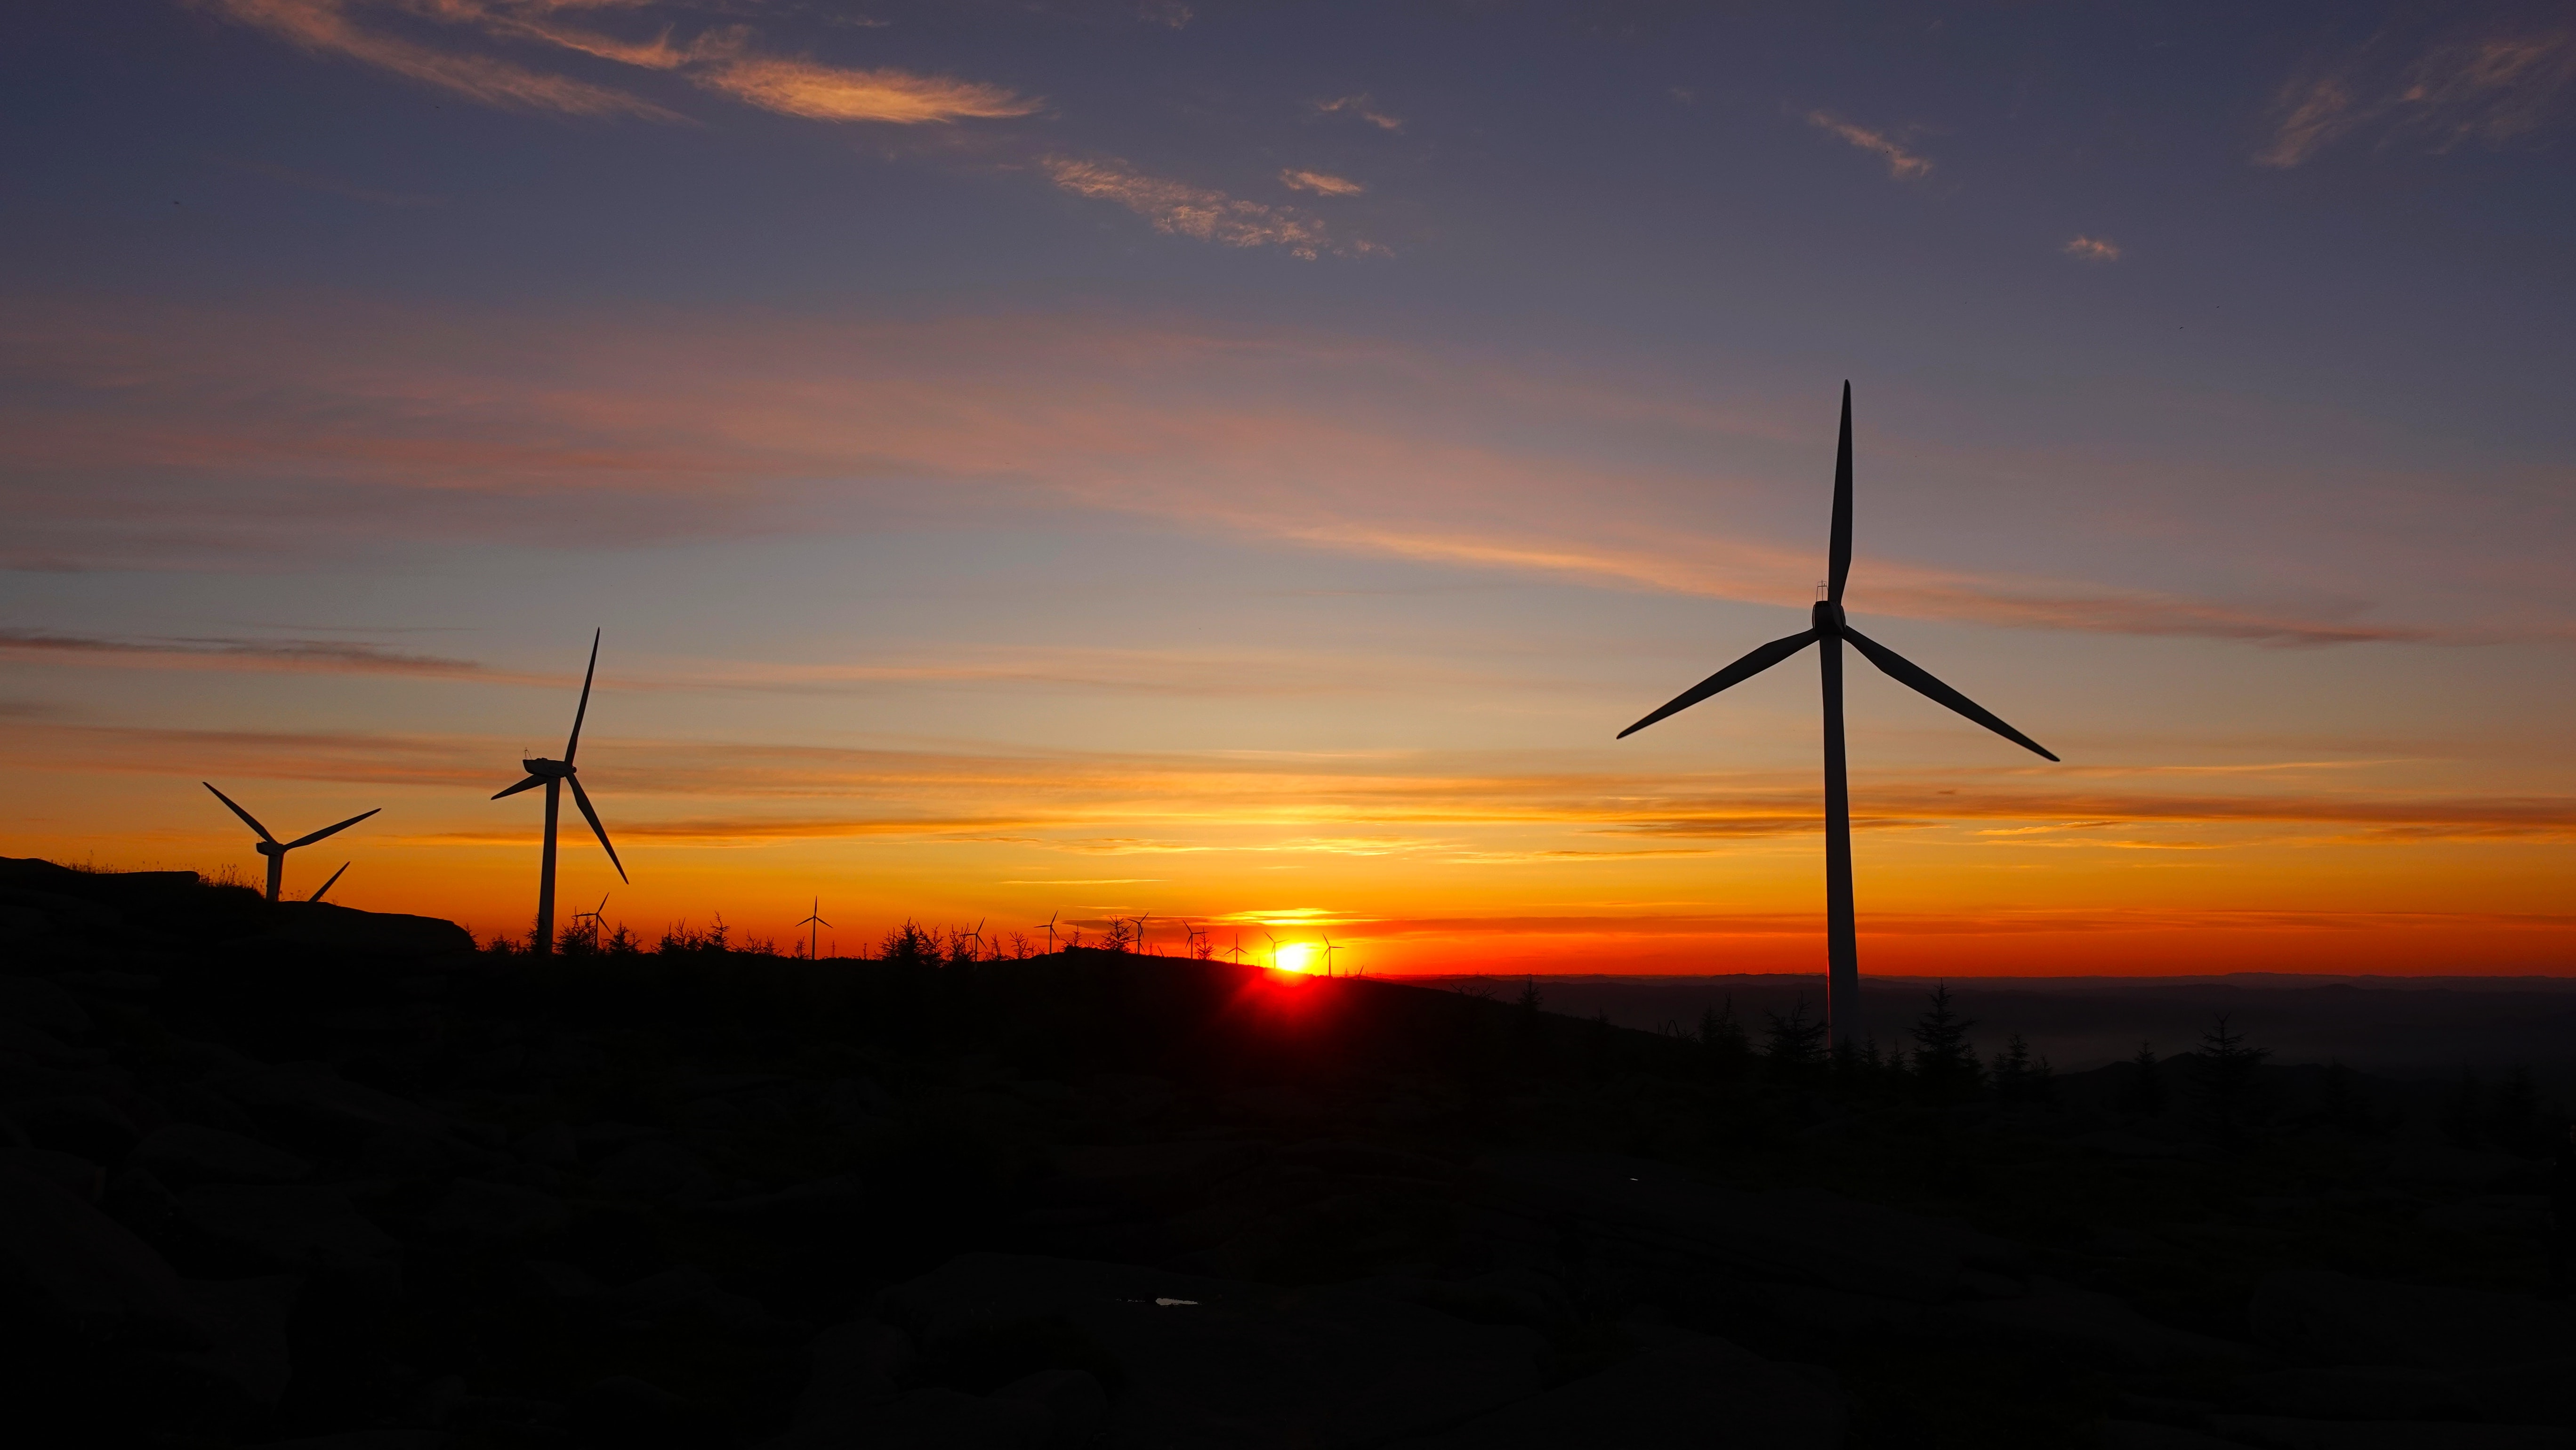working: (1622, 373, 2065, 776)
